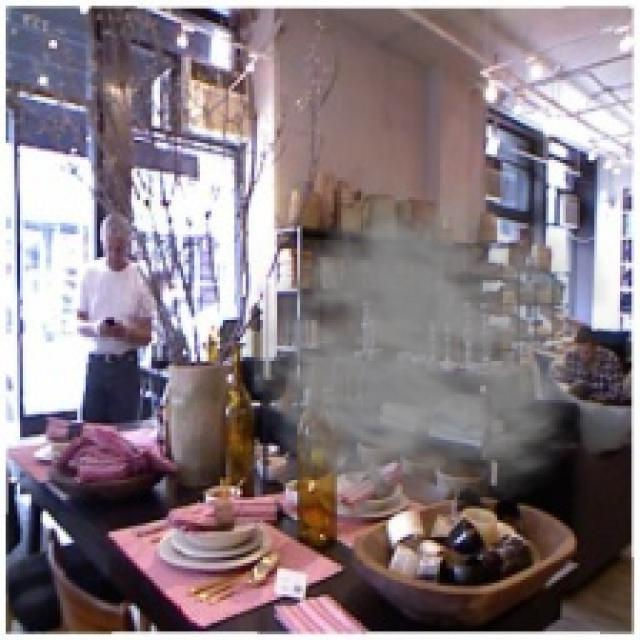smoke: (240, 160, 631, 526)
